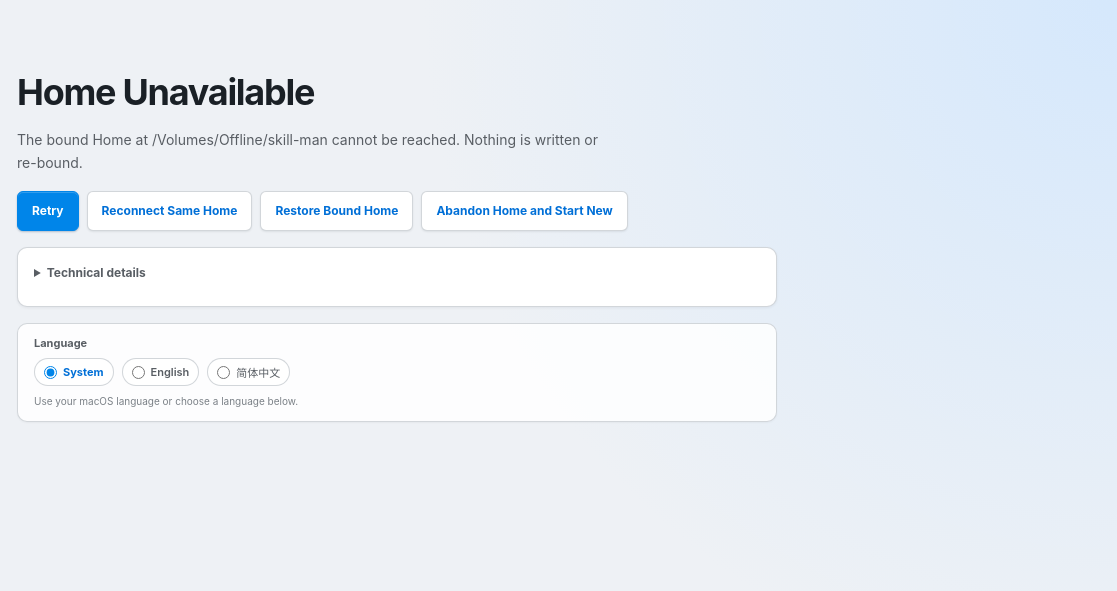
Test case: Restore probe with an eligible result opens the Restore route
What coordinates should you click on to do the following:
click the button "Restore Bound Home"
I would click on:
 (337, 210)
Its box is [260,190,413,230].
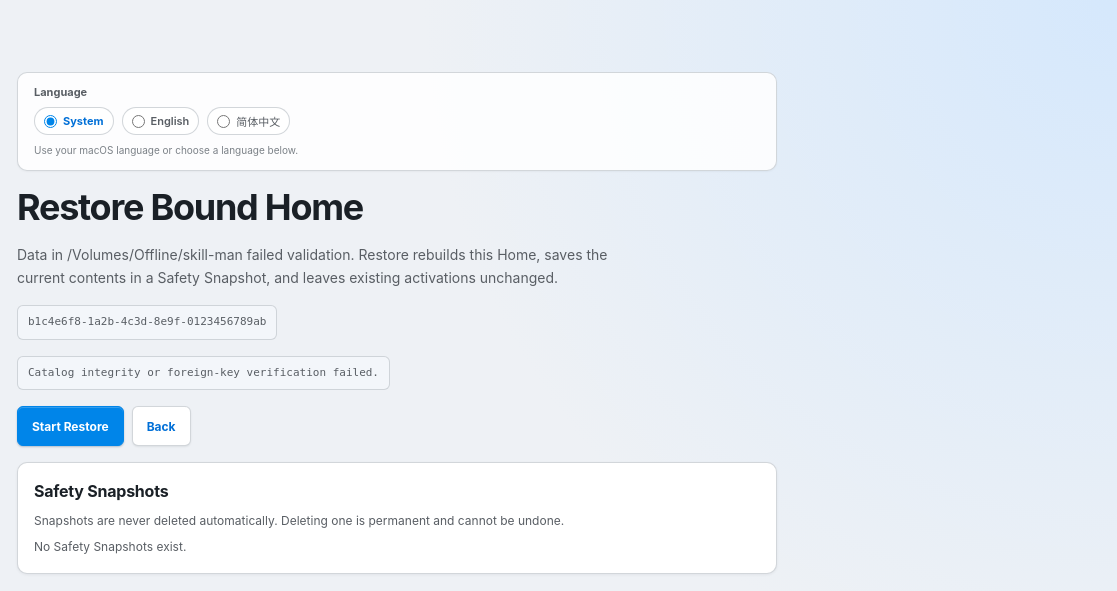
Expected: the heading "Restore Bound Home" is shown, [17,184,363,228]
Now the button "Start Restore" is shown, box [17,406,124,446]
